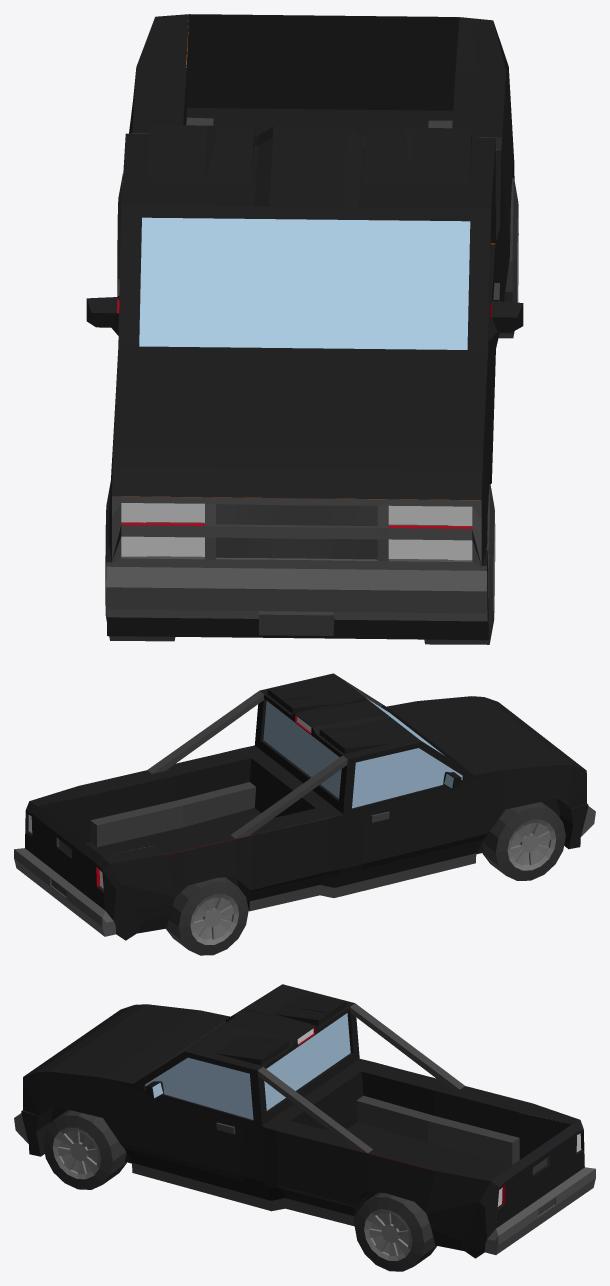
Rendered from PickUp3.fbx.
3 renders of one model, top to bottom at view 1: azimuth 30°, elevation 25°; view 2: azimuth 150°, elevation 25°; view 3: azimuth 270°, elevation 25°, orthographic. The views are drawn at different scales.
Parts seen in each view (by area): view 1: Cube, Wheel.003, Wheel.002; view 2: Cube, Wheel.001, Wheel; view 3: Cube, Wheel.003, Wheel.002.
Boxes of the visible parts, <box> form: Cube: <box>86,14,523,640</box>; Wheel.003: <box>424,484,495,644</box>; Wheel.002: <box>498,177,518,338</box>; Cube: <box>14,673,595,940</box>; Wheel.001: <box>482,802,565,880</box>; Wheel: <box>166,877,248,955</box>; Cube: <box>14,984,595,1258</box>; Wheel.003: <box>43,1110,126,1189</box>; Wheel.002: <box>354,1192,436,1271</box>.
Size of the model in its own units: 394 by 161 by 501.
